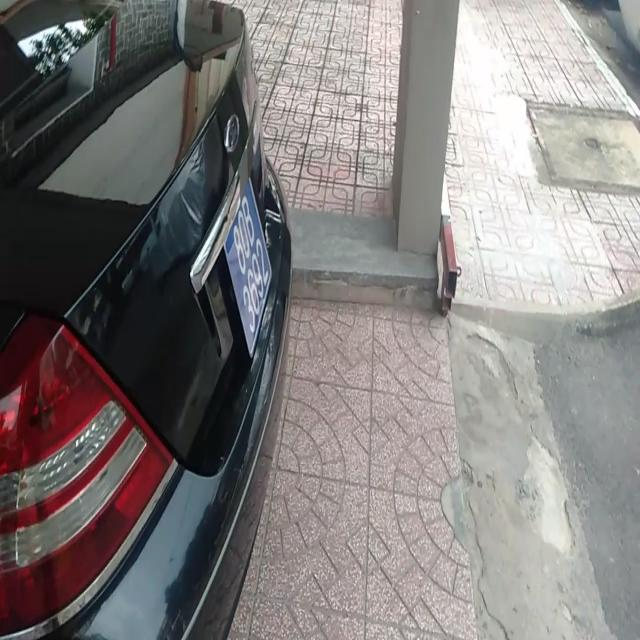bien_xanh: (208, 180, 273, 331)
